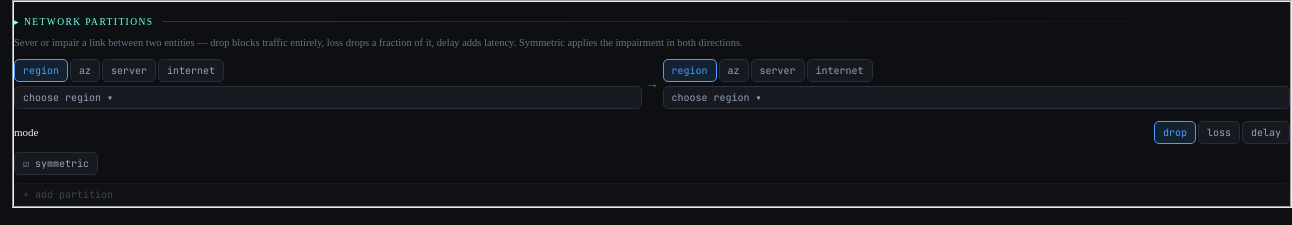
Scenario: PartitionsSection › every control stays a non-native role element (never a real <select>/<input>/<button disabled>) so an ambient ancestor <fieldset disabled> cannot force it off
// And it's genuinely interactive: opening the id popup actually works while nested here.
What coordinates should you click on to do the following:
click the button with test id "partition-from-id"
I would click on:
 (62, 97)
Its box is [14,86,642,109].
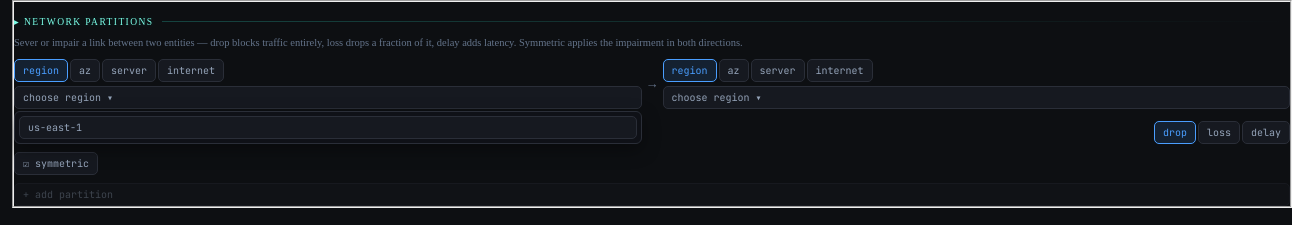
Check: the list with test id "partition-from-id-menu" is shown, box [14,111,642,144]
